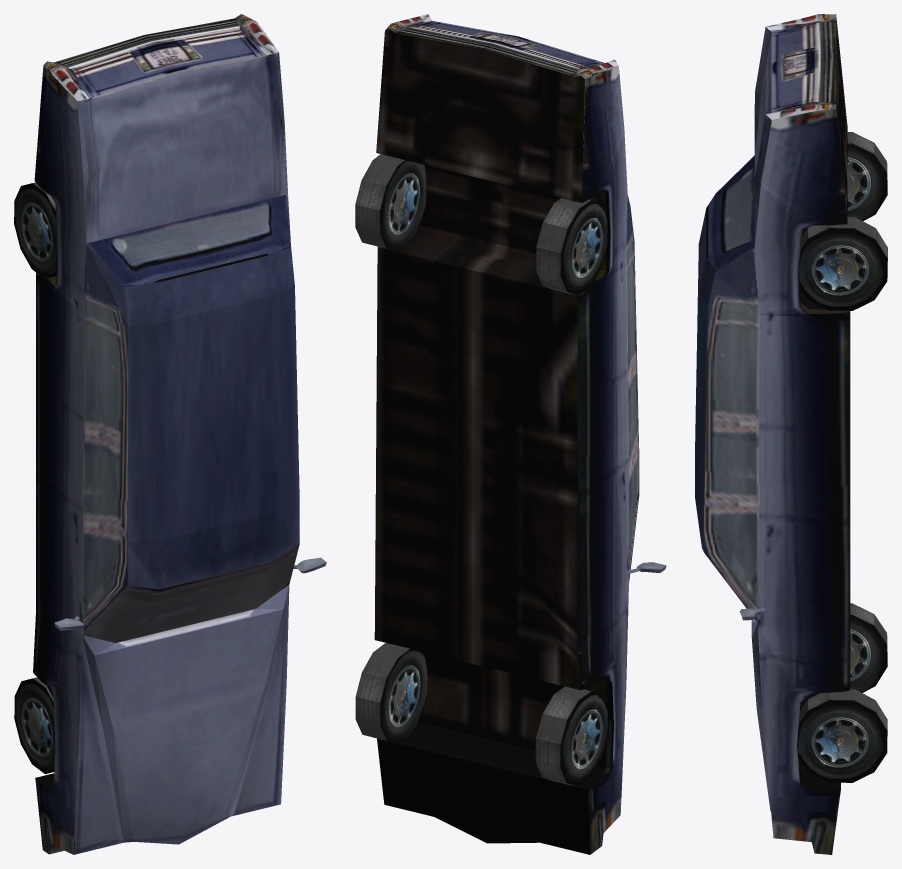
Rendered from carpack_limo_wtf.obj.
3 views of the same model, side by side, from view 1: azimuth 30°, elevation 25°; view 2: azimuth 150°, elevation 25°; view 3: azimuth 270°, elevation 25° (orthographic). The views are drawn at different scales.
Visible parts, largest first — view 1: group2; view 2: group2; view 3: group2.
Part boxes in pixels (x1,y1,x2,y2): group2: (14, 14, 326, 854); group2: (355, 14, 666, 854); group2: (695, 14, 887, 854).
Bounding box in the file's own units: 230 × 660 × 151.
